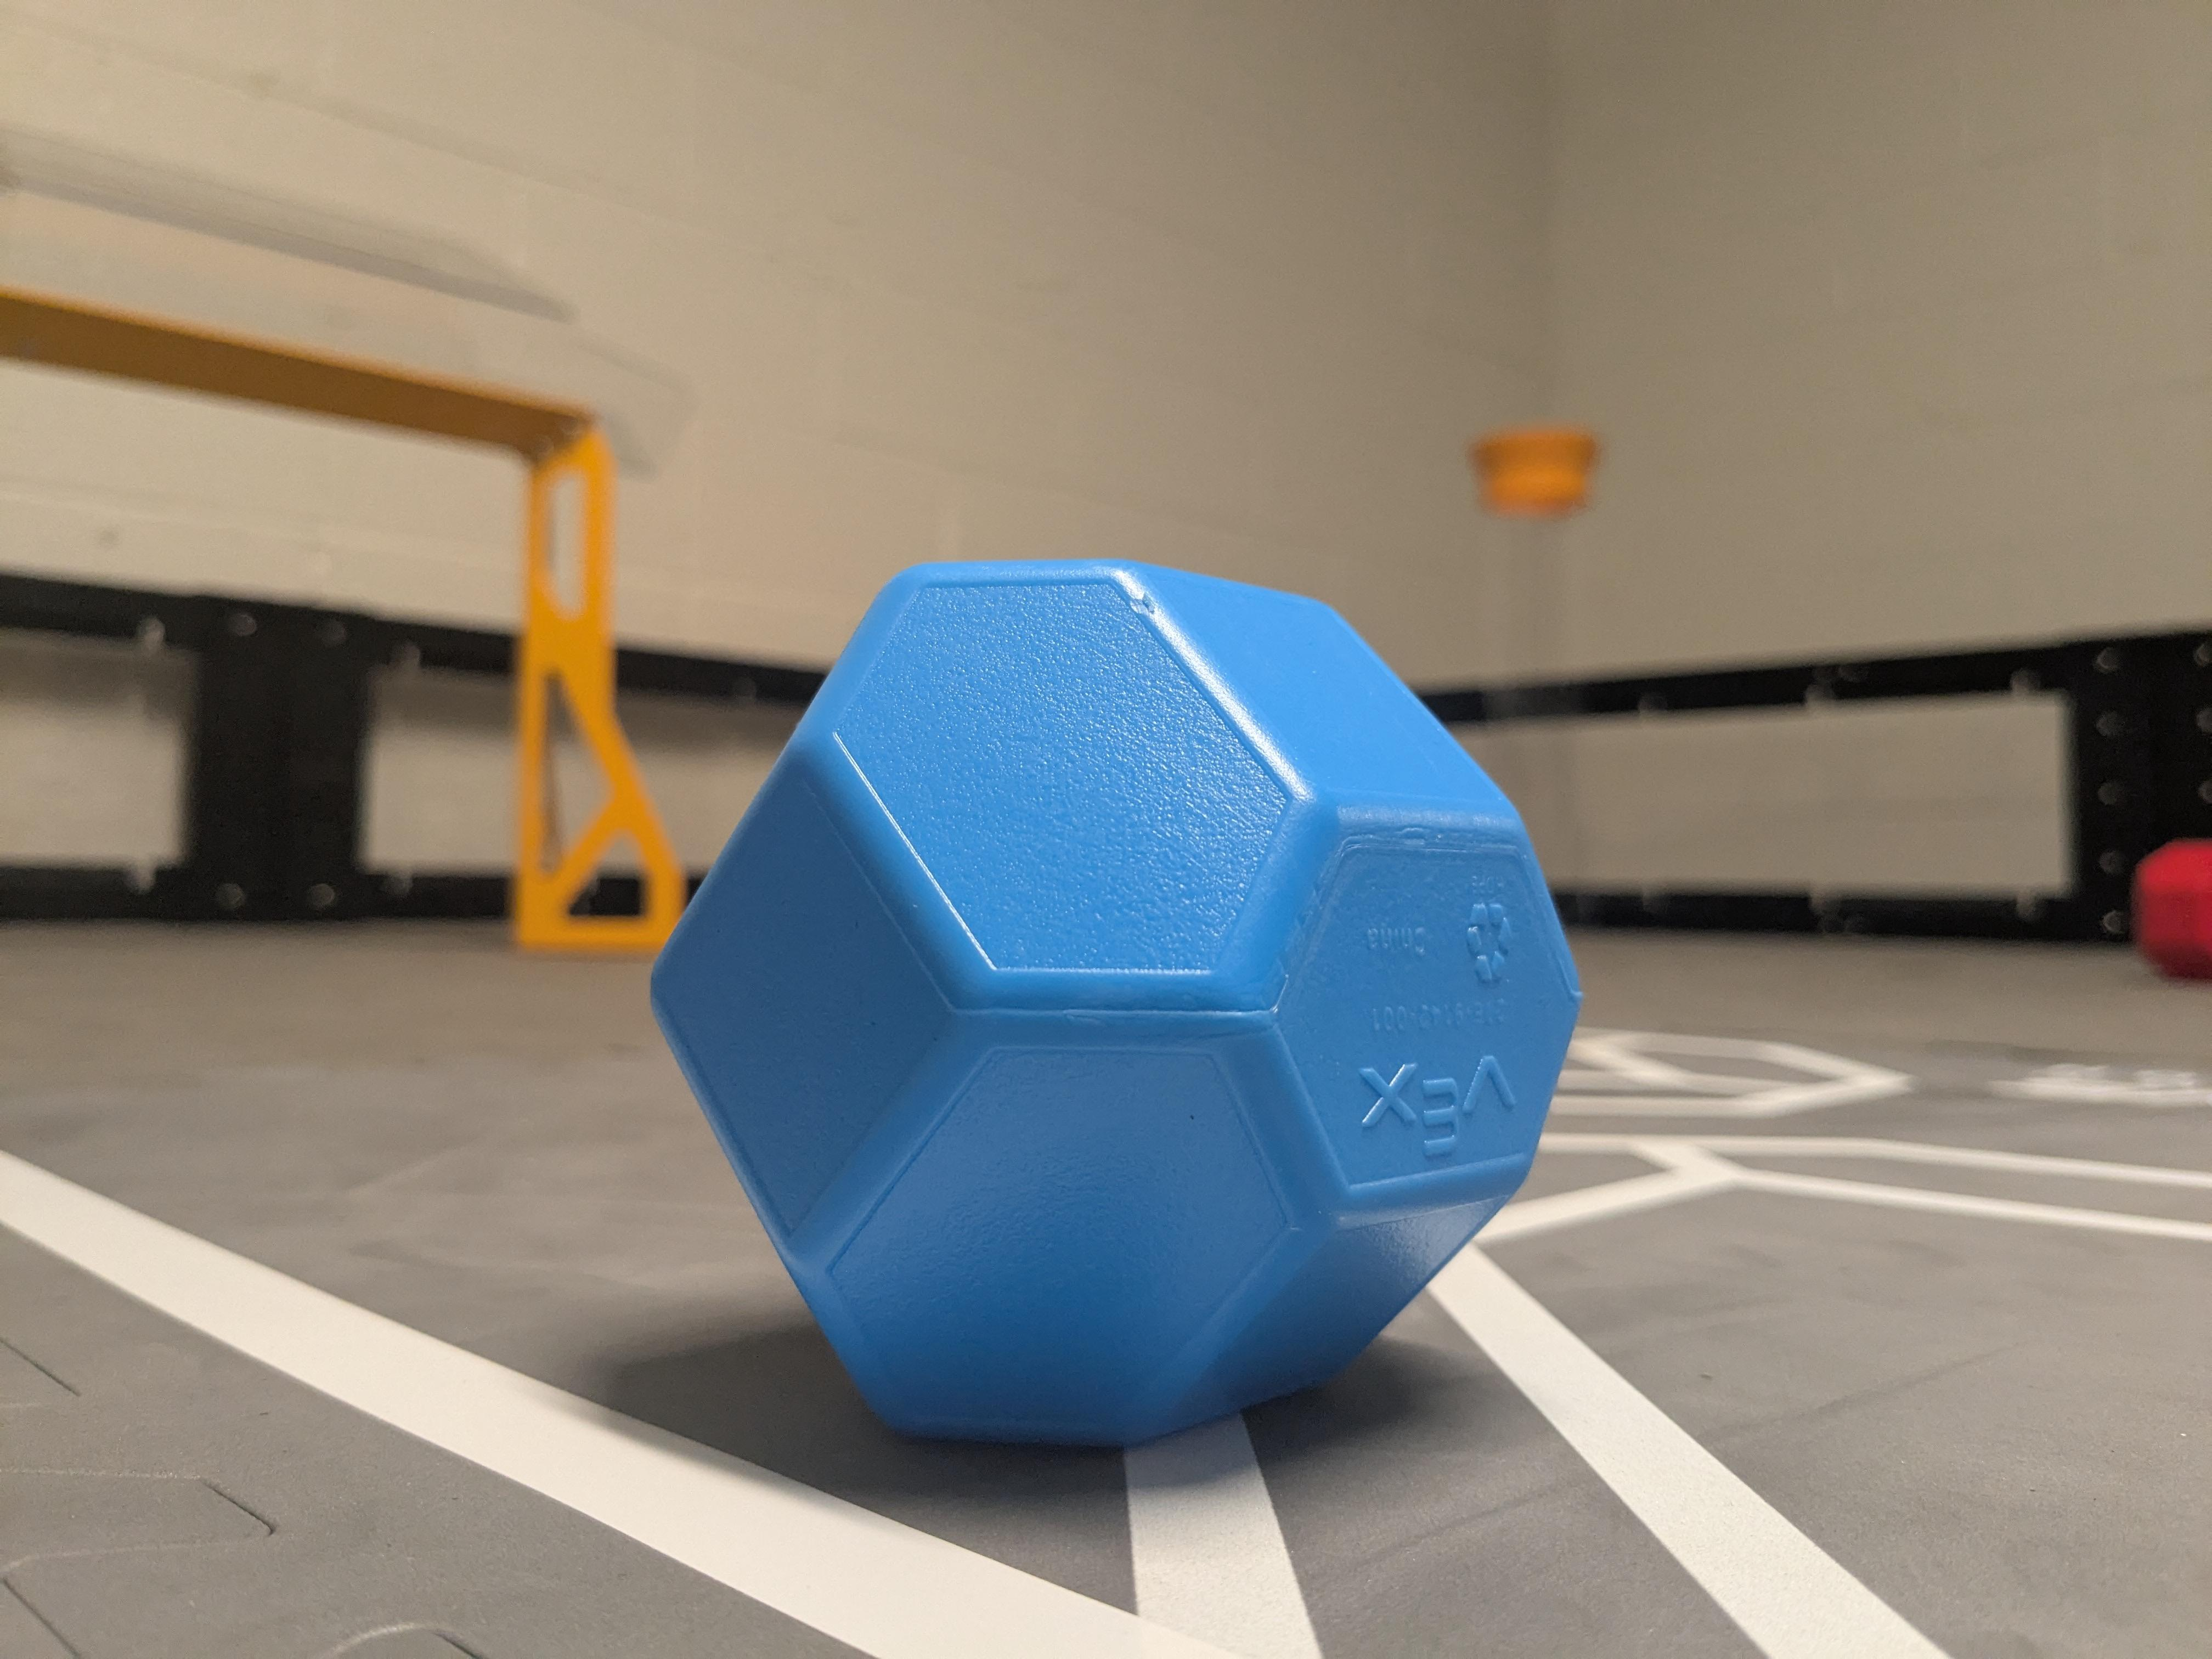Vex-Pieces-BLUE: (650, 565, 1583, 1459)
